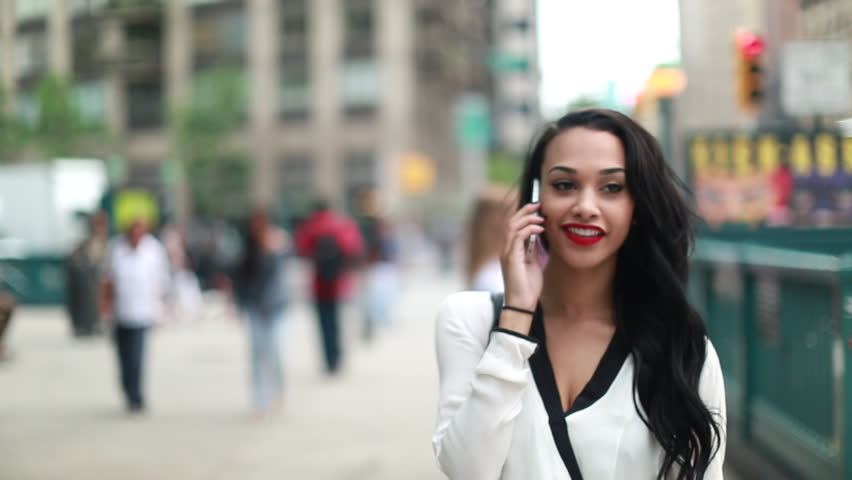phone: (522, 159, 552, 261)
talk: (500, 159, 638, 312)
